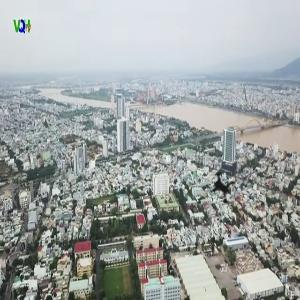drone: (193, 156, 258, 221)
